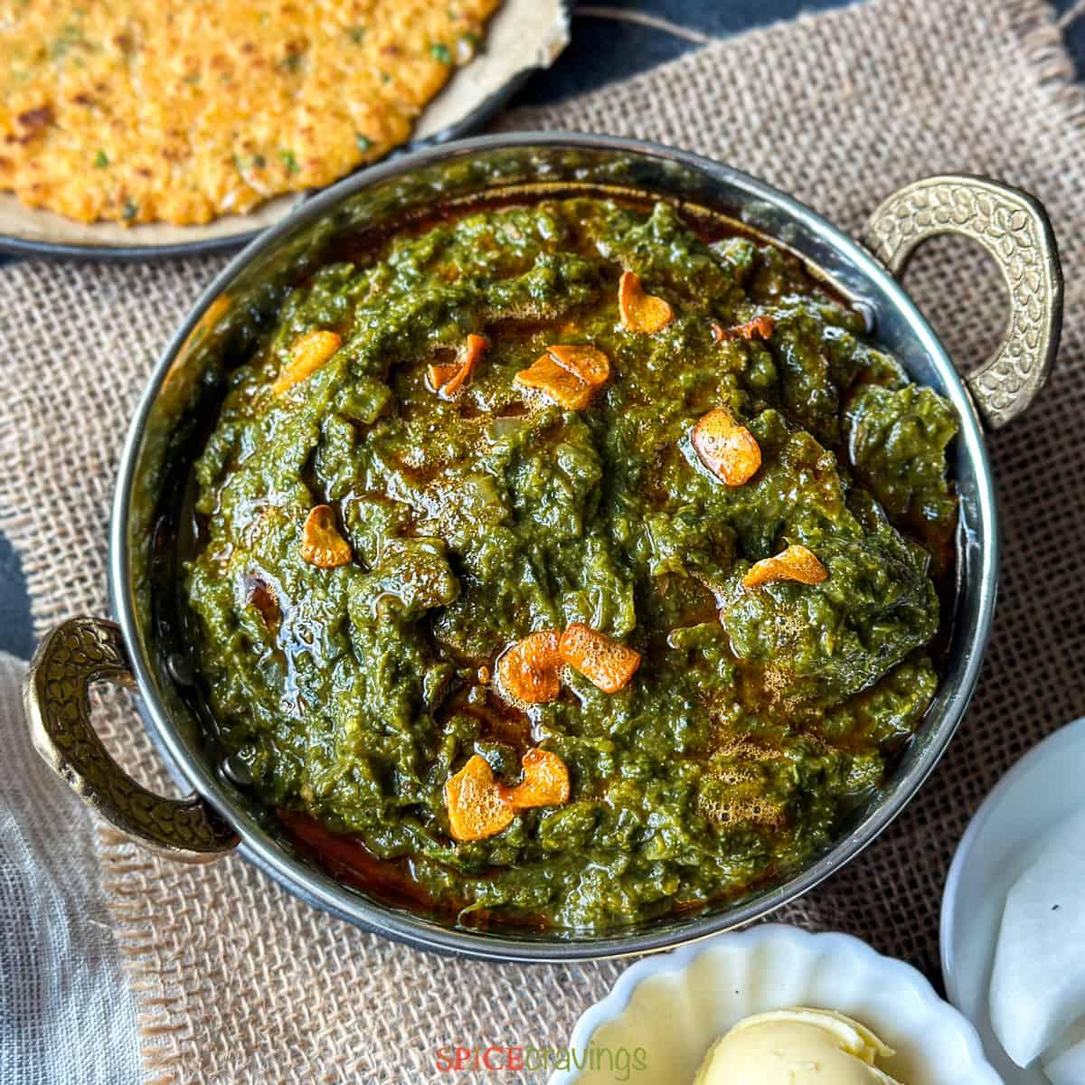saag: (185, 226, 929, 895)
